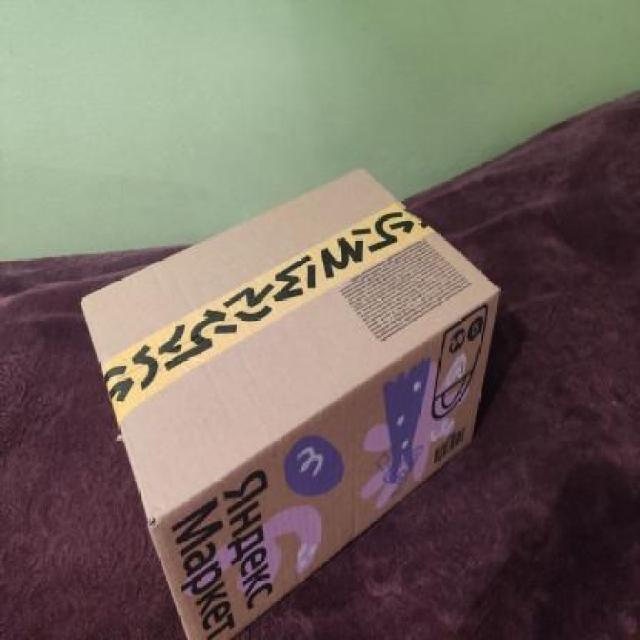box: (72, 167, 502, 640)
